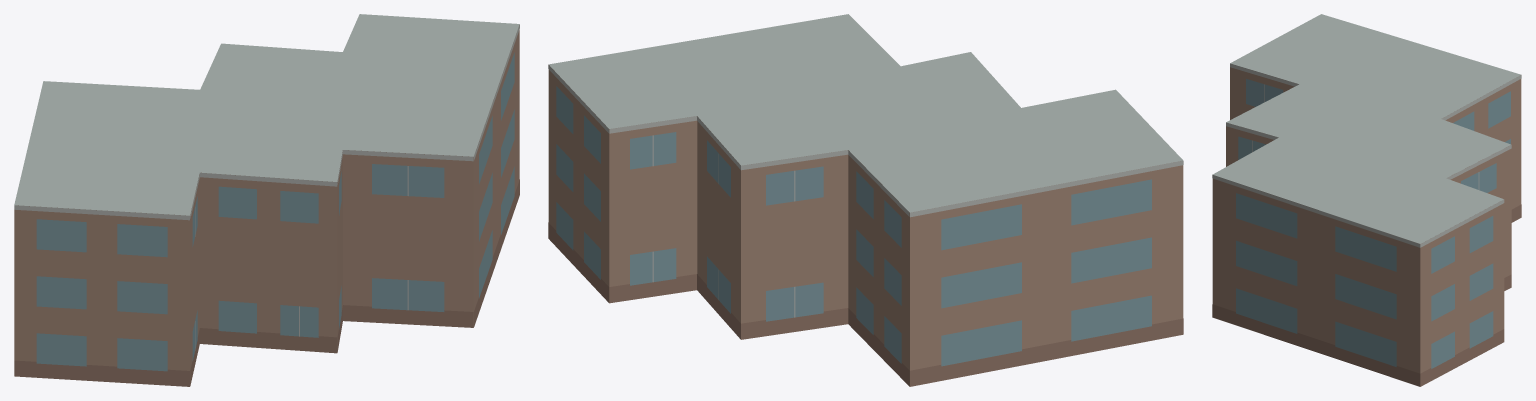
File: survey-upis-32590702.glb
3 views of the same model, side by side, from view 1: azimuth 30°, elevation 25°; view 2: azimuth 150°, elevation 25°; view 3: azimuth 270°, elevation 25° (orthographic). The views are drawn at different scales.
Parts seen in each view (by area): view 1: survey-upis-32590702.tmp; view 2: survey-upis-32590702.tmp; view 3: survey-upis-32590702.tmp.
Boxes of the visible parts, <box> form: survey-upis-32590702.tmp: <box>14,14,519,386</box>; survey-upis-32590702.tmp: <box>548,14,1183,386</box>; survey-upis-32590702.tmp: <box>1212,14,1521,386</box>.
Size of the model in its own units: 31.6 by 9.15 by 17.94.
